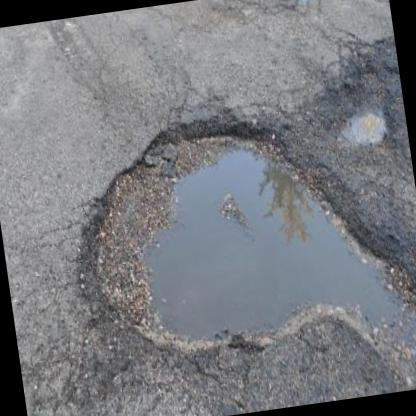pothole: (54, 88, 388, 376), (317, 50, 409, 156), (272, 0, 333, 6)
